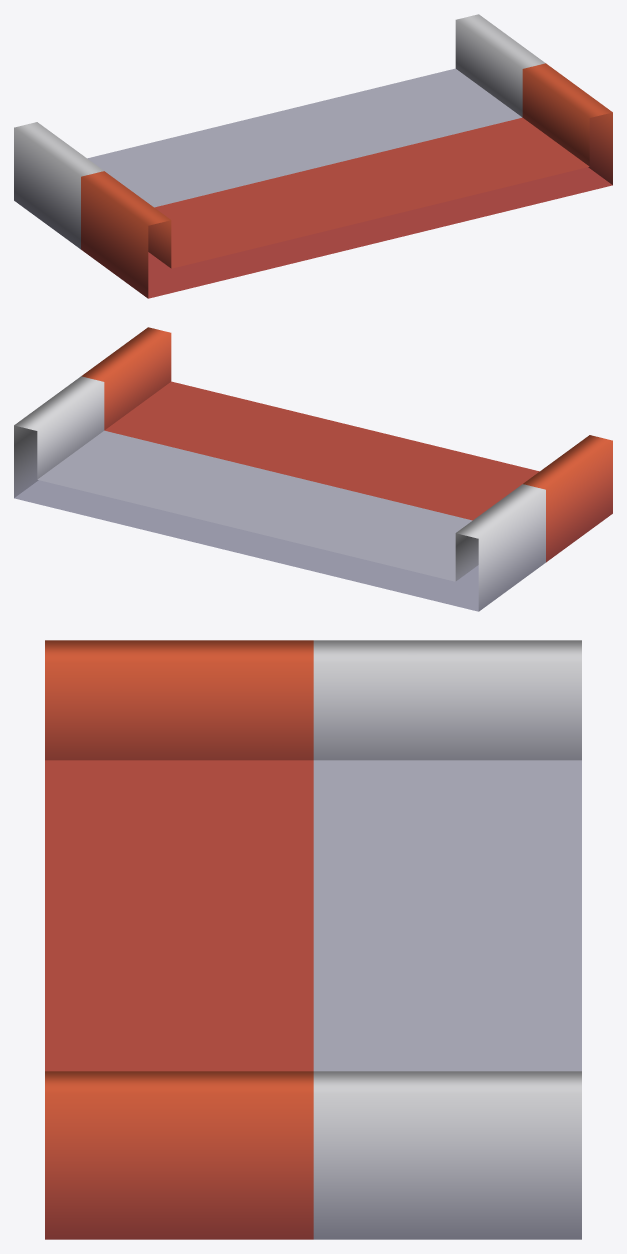
File: track-striped-wide.glb
3 views of the same model, one above another, from view 1: azimuth 30°, elevation 25°; view 2: azimuth 150°, elevation 25°; view 3: azimuth 270°, elevation 25° (orthographic). The views are drawn at different scales.
Visible parts, largest first — view 1: track-striped-wide; view 2: track-striped-wide; view 3: track-striped-wide.
Part boxes in pixels (x1=…): track-striped-wide: x1=14, y1=14, x2=612, y2=298; track-striped-wide: x1=14, y1=327, x2=612, y2=611; track-striped-wide: x1=45, y1=640, x2=581, y2=1239.
Bounding box in the file's own units: 2 × 0.3 × 1.
